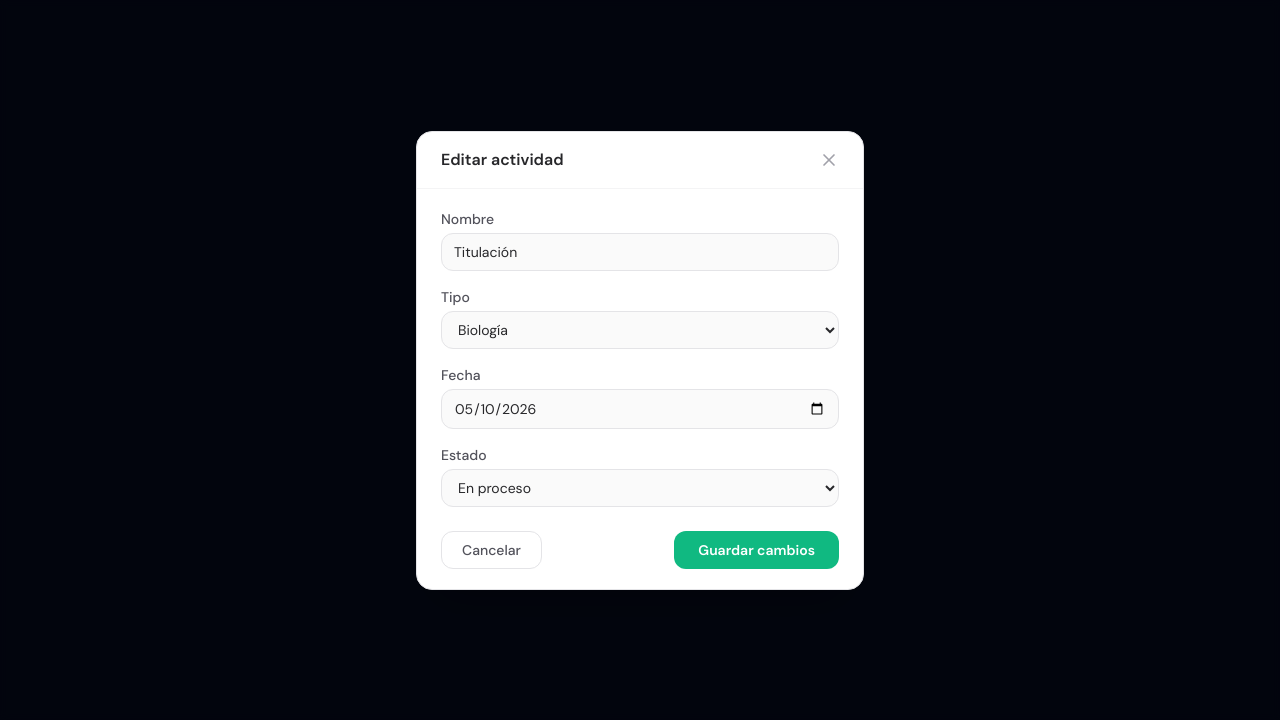
FormularioActividad Component › usa un mensaje genérico si el error no trae detalle
The width and height of the screenshot is (1280, 720).
Click the button "Guardar cambios".
click(757, 550)  # box [674,530,839,568]
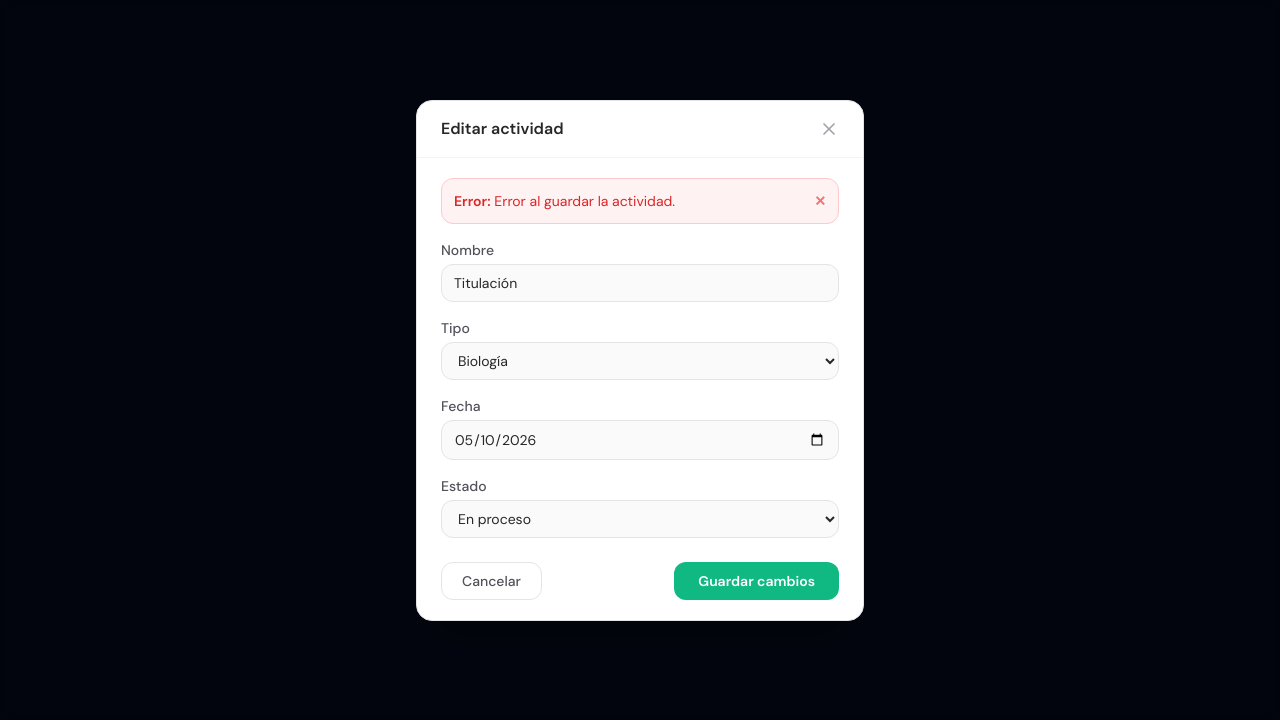
Result: the text "Error al guardar la actividad." is shown at [494,192,675,210]
